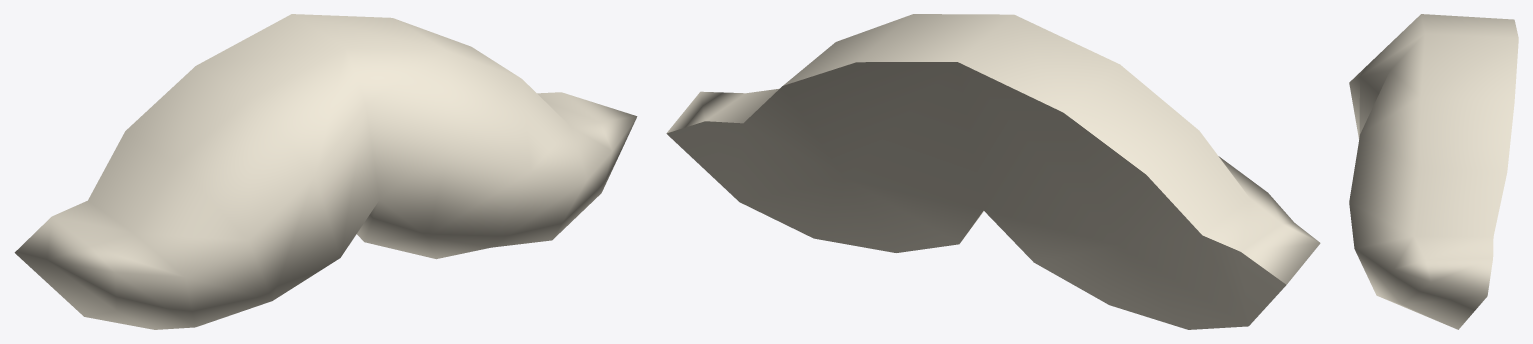
File: Mustache_7.fbx
3 renders of one model, left to right at view 1: azimuth 30°, elevation 25°; view 2: azimuth 150°, elevation 25°; view 3: azimuth 270°, elevation 25°, orthographic. The views are drawn at different scales.
Parts seen in each view (by area): view 1: Mustache_7; view 2: Mustache_7; view 3: Mustache_7.
Part boxes in pixels (x1,y1,x2,y2): Mustache_7: (14,14,637,329); Mustache_7: (666,14,1320,329); Mustache_7: (1349,14,1518,329).
Size of the model in its own units: 25.76 by 10.32 by 7.4.
